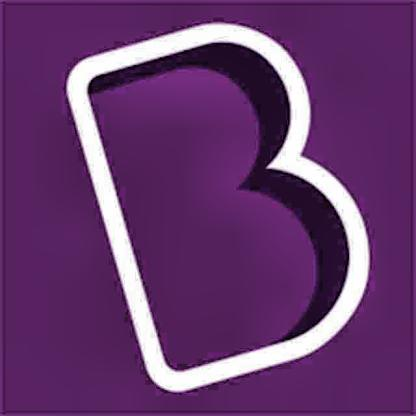Byjus: (59, 16, 374, 396)
